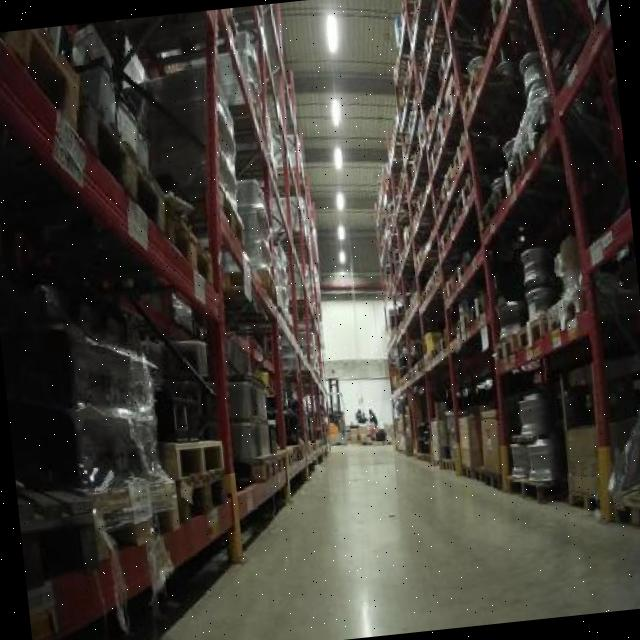pallet: (16, 471, 192, 578), (164, 464, 243, 528), (154, 432, 228, 486), (538, 290, 592, 338), (503, 472, 558, 508), (490, 319, 536, 362), (608, 485, 640, 544), (242, 448, 292, 484), (564, 481, 606, 521)
